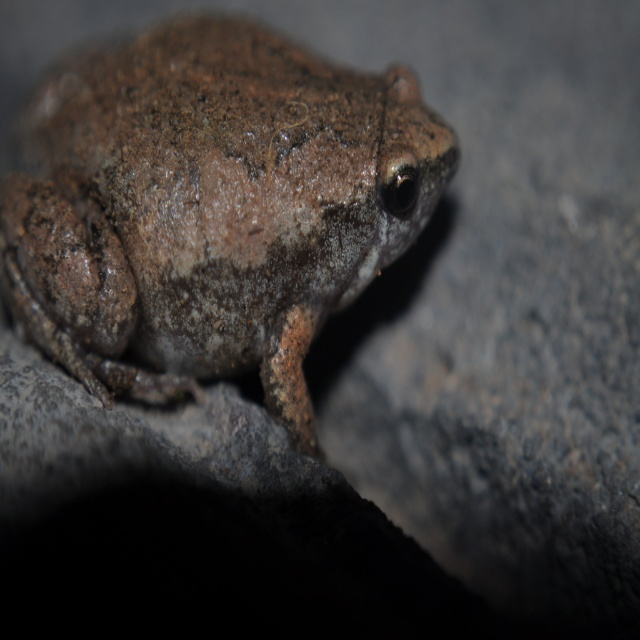Frog: (0, 10, 464, 463)
